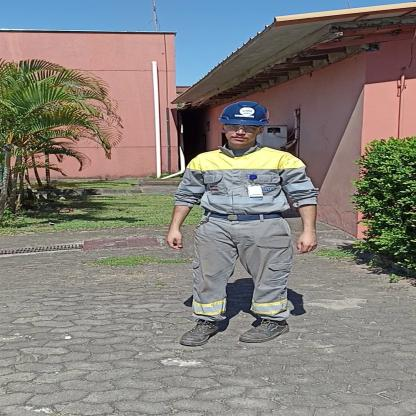Capacete: (220, 100, 267, 126)
